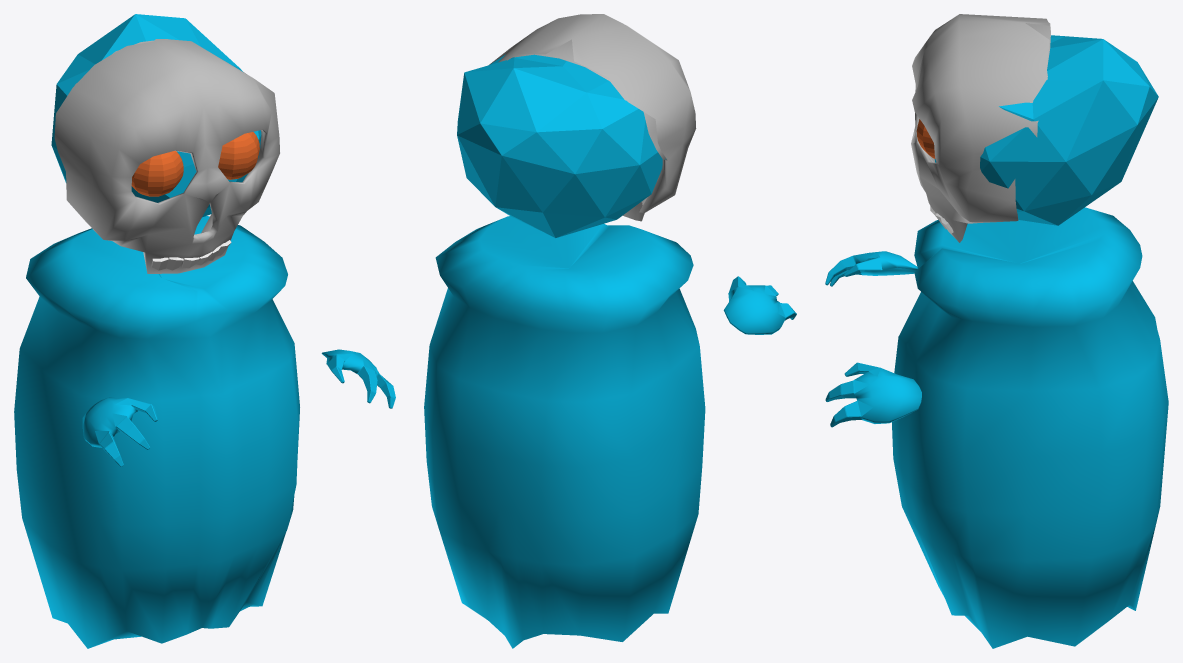
File: SummonerMeleeEnemy.fbx
3 views of the same model, side by side, from view 1: azimuth 30°, elevation 25°; view 2: azimuth 150°, elevation 25°; view 3: azimuth 270°, elevation 25° (orthographic). The views are drawn at different scales.
Parts seen in each view (by area): view 1: Icosphere.007, Cube.031, Cube.033, Sphere.010, Cube.032; view 2: Icosphere.007, Cube.031, Cube.033; view 3: Icosphere.007, Cube.031, Cube.033.
Part boxes in pixels (bbox=[...]): Icosphere.007: bbox=[14, 14, 299, 648]; Cube.031: bbox=[54, 39, 279, 273]; Cube.033: bbox=[82, 349, 395, 466]; Sphere.010: bbox=[131, 132, 259, 196]; Cube.032: bbox=[151, 240, 231, 270]; Icosphere.007: bbox=[424, 54, 705, 648]; Cube.031: bbox=[489, 14, 696, 221]; Cube.033: bbox=[723, 276, 796, 334]; Icosphere.007: bbox=[892, 35, 1168, 648]; Cube.031: bbox=[911, 14, 1050, 242]; Cube.033: bbox=[825, 251, 921, 427].
Bounding box in the file's own units: 62.34 × 119 × 63.24.
